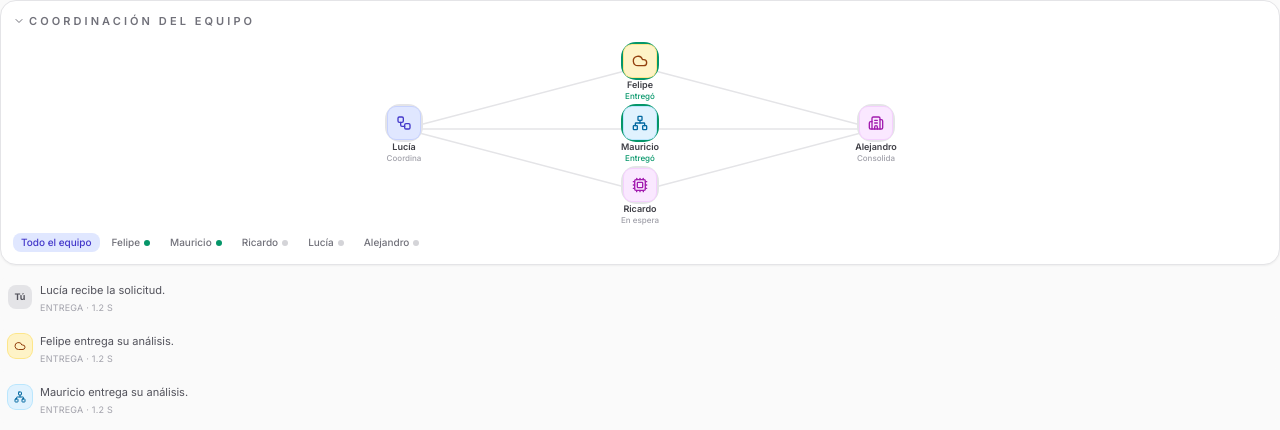
Scenario: TeamCoordinationPanel — inspection controls › lets the reader put the diagram away and get it back
This screenshot has width=1280, height=430.
Expected: the picture is shown, [13,33,1267,225]
Step 1. Click the button "Coordinación del equipo" → (134, 21), box [13,13,255,29]
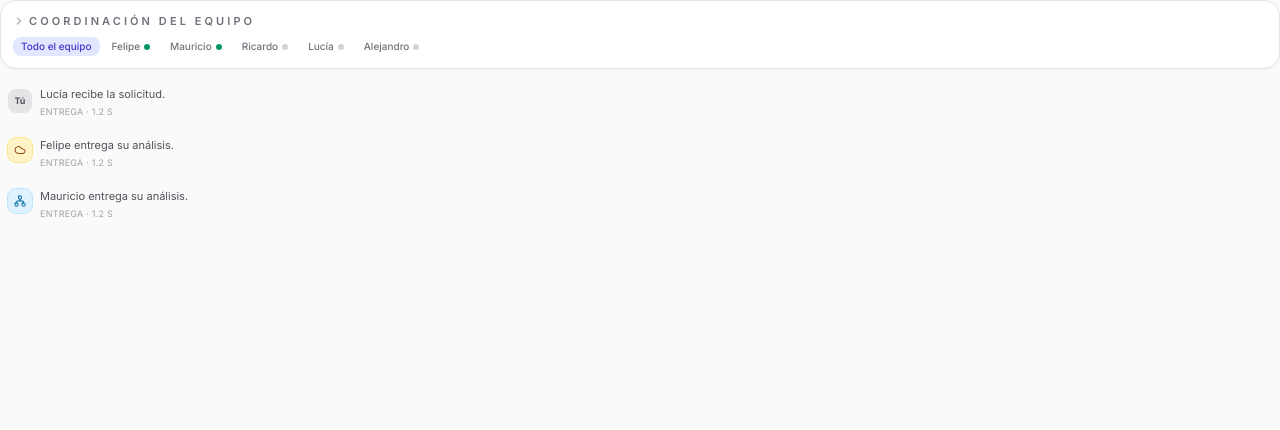
Result: the picture is gone
Step 2. Click the button "Coordinación del equipo" → (134, 21), box [13,13,255,29]
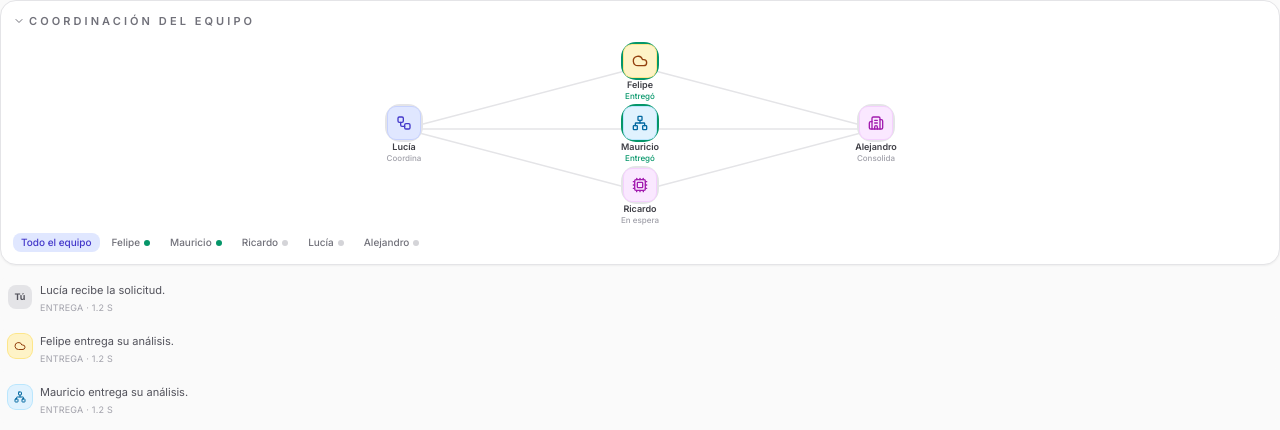
Result: the picture is shown at [13,33,1267,225]
